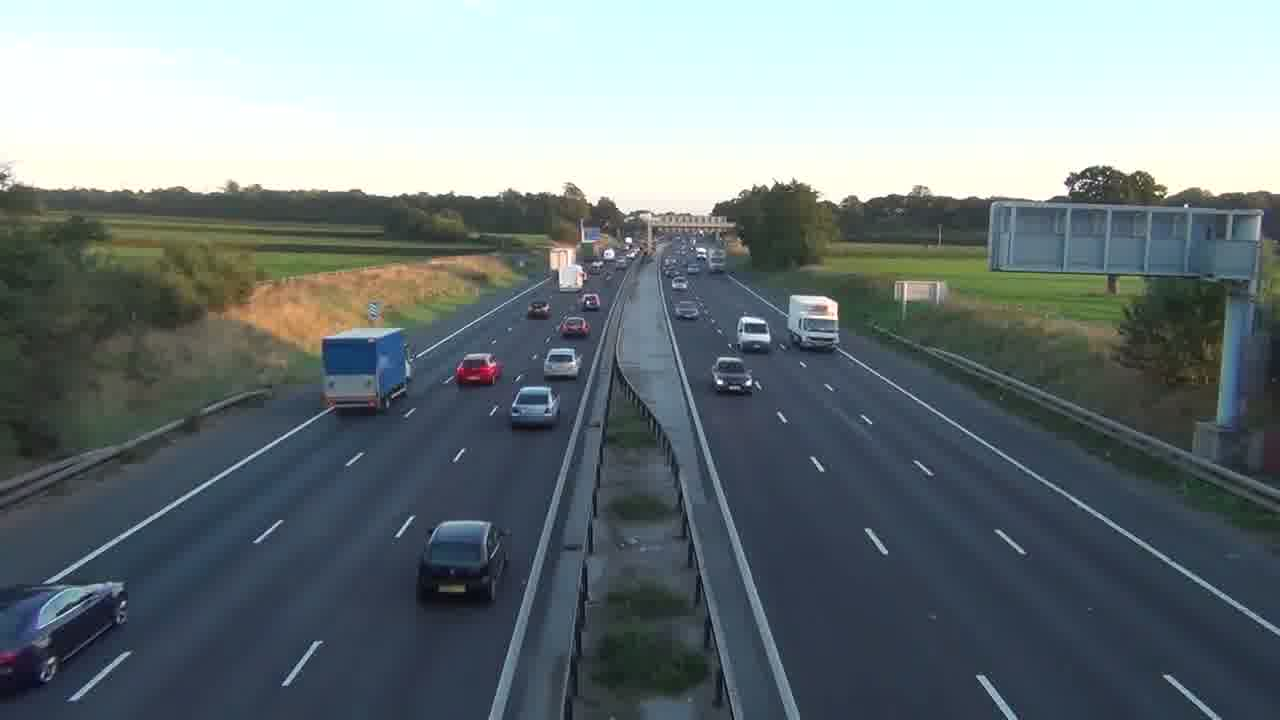car: (0, 579, 129, 694), (415, 519, 511, 601), (510, 384, 562, 428), (710, 355, 755, 395), (454, 352, 503, 387), (543, 346, 581, 378), (558, 314, 591, 338)
truck: (320, 326, 414, 414), (787, 293, 840, 350), (736, 314, 771, 353)
